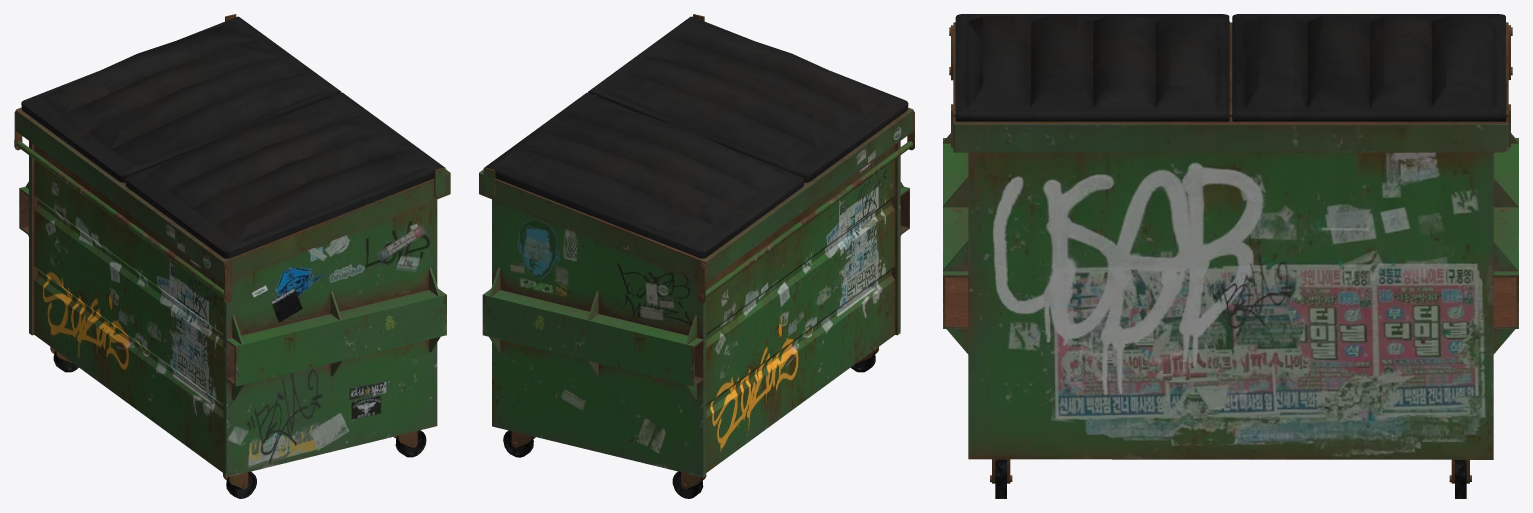
Rendered from dumpster.glb.
The picture shows the model from 3 angles, left to right: view 1: azimuth 30°, elevation 25°; view 2: azimuth 150°, elevation 25°; view 3: azimuth 270°, elevation 25°; orthographic projection. The views are drawn at different scales.
Parts seen in each view (by area): view 1: BIN_lambert1_0; view 2: BIN_lambert1_0; view 3: BIN_lambert1_0.
Boxes of the visible parts, x1,y1,x2,y2 form: BIN_lambert1_0: [14, 14, 450, 498]; BIN_lambert1_0: [479, 14, 914, 498]; BIN_lambert1_0: [943, 14, 1518, 498].
Size of the model in its own units: 1.18 by 1.5 by 1.95.
1 material, 1 textured.
